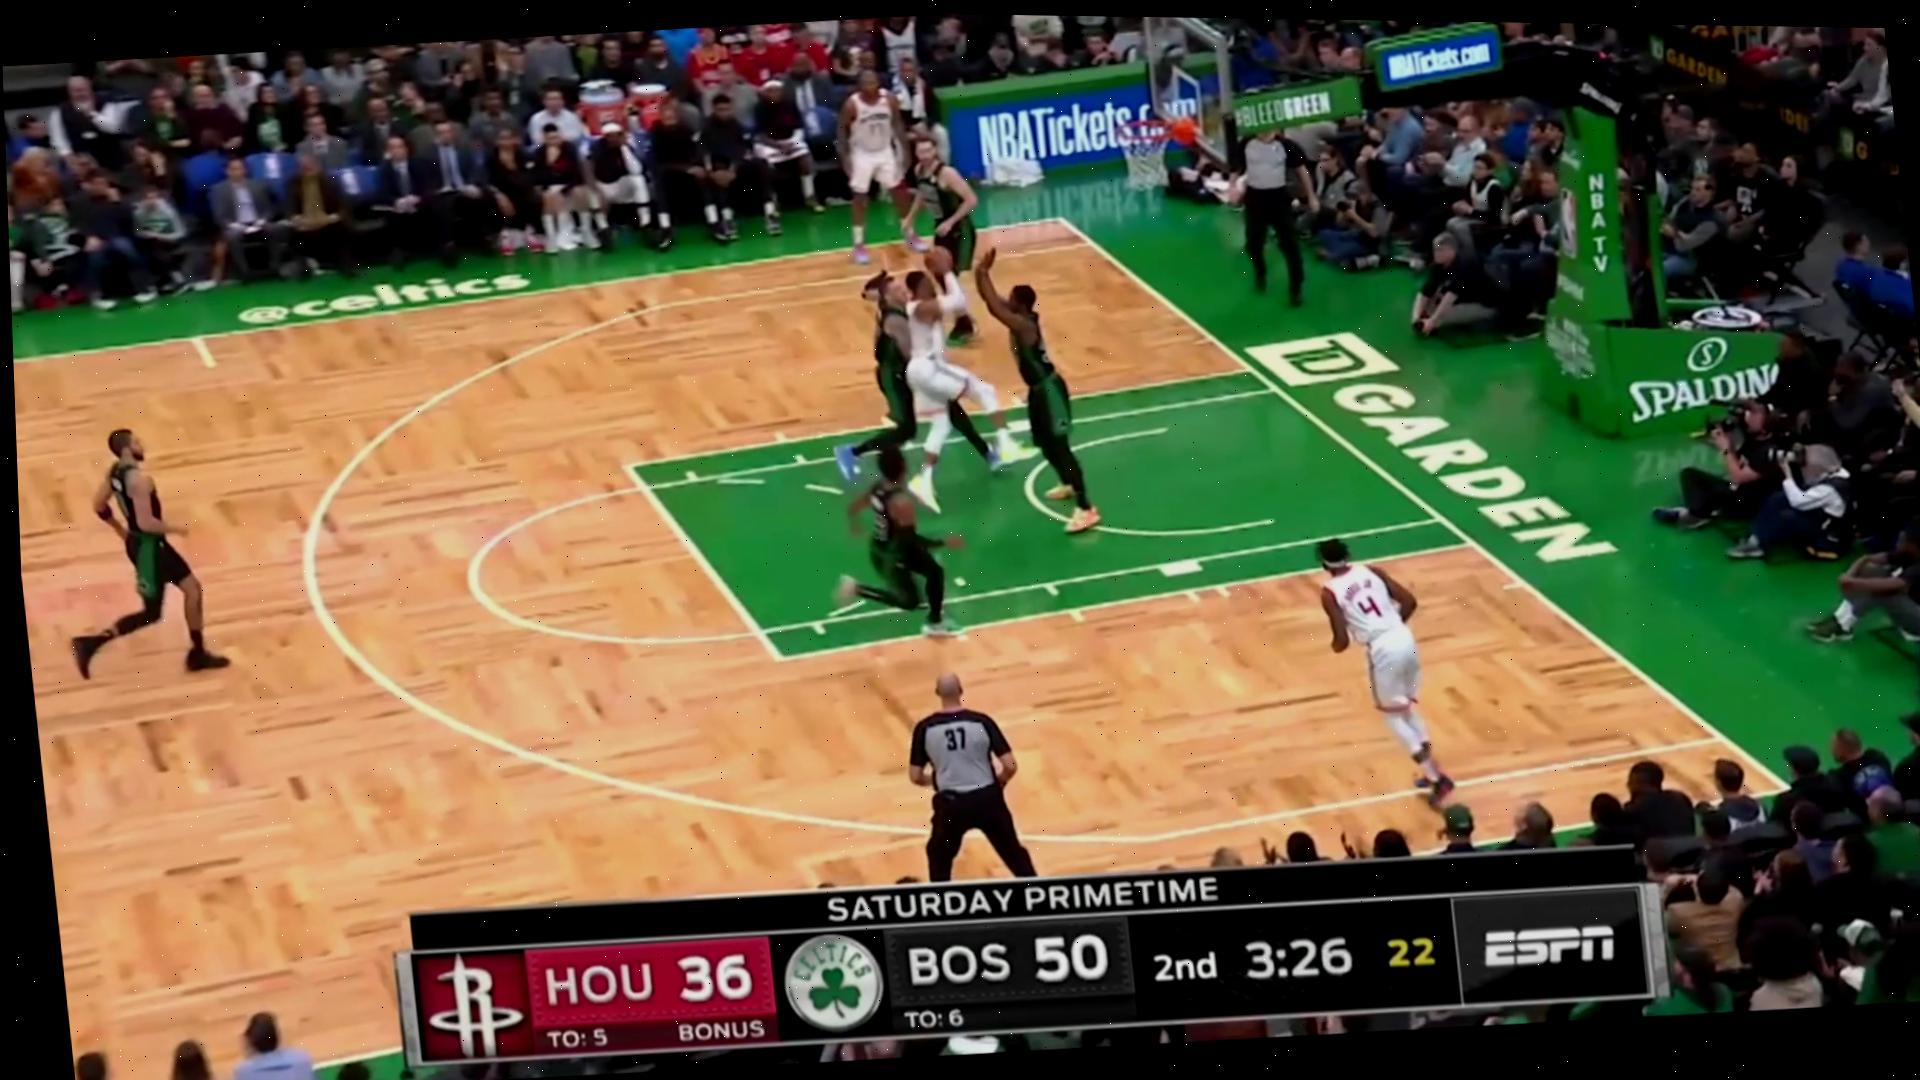no_foul: (857, 239, 993, 477)
